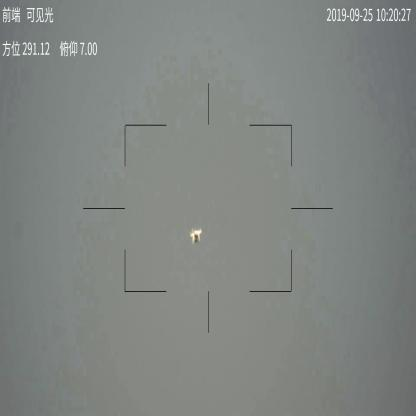uav: (186, 228, 204, 247)
